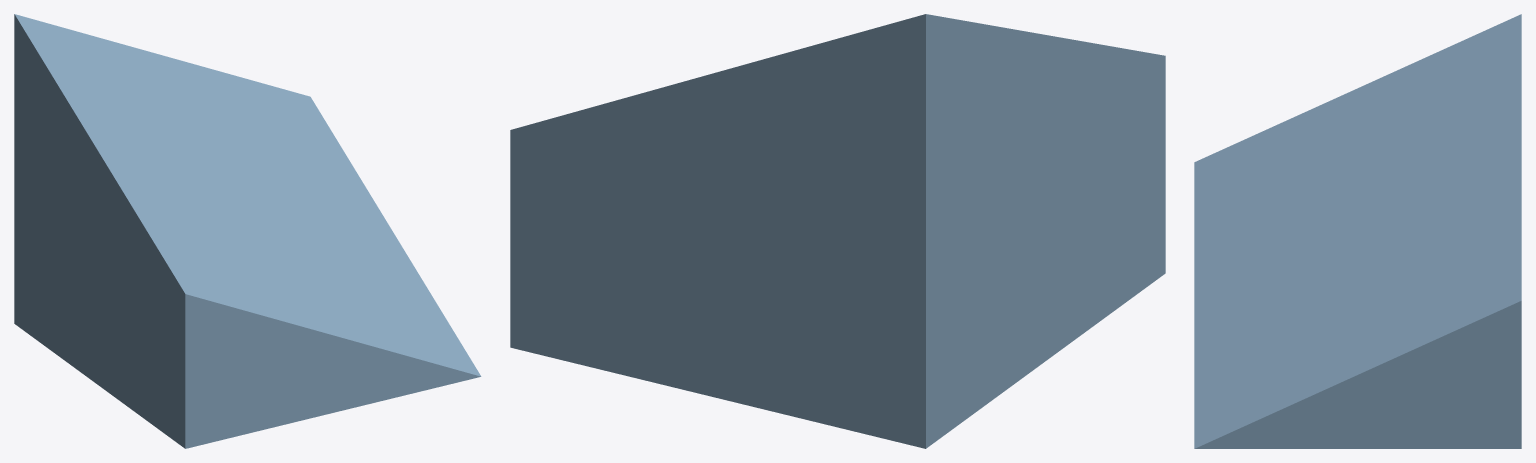
The model's file is OnOffConveyorB_OuterCorner.glb.
3 views of the same model, side by side, from view 1: azimuth 30°, elevation 25°; view 2: azimuth 150°, elevation 25°; view 3: azimuth 270°, elevation 25° (orthographic). The views are drawn at different scales.
Parts seen in each view (by area): view 1: OnOffConveyorB_OuterCorner_body; view 2: OnOffConveyorB_OuterCorner_body; view 3: OnOffConveyorB_OuterCorner_body.
Part boxes in pixels (left/top/right/bottom): OnOffConveyorB_OuterCorner_body: left=14, top=14, right=481, bottom=448; OnOffConveyorB_OuterCorner_body: left=510, top=14, right=1165, bottom=448; OnOffConveyorB_OuterCorner_body: left=1194, top=14, right=1521, bottom=448.
Bounding box in the file's own units: 1 × 1 × 1.
